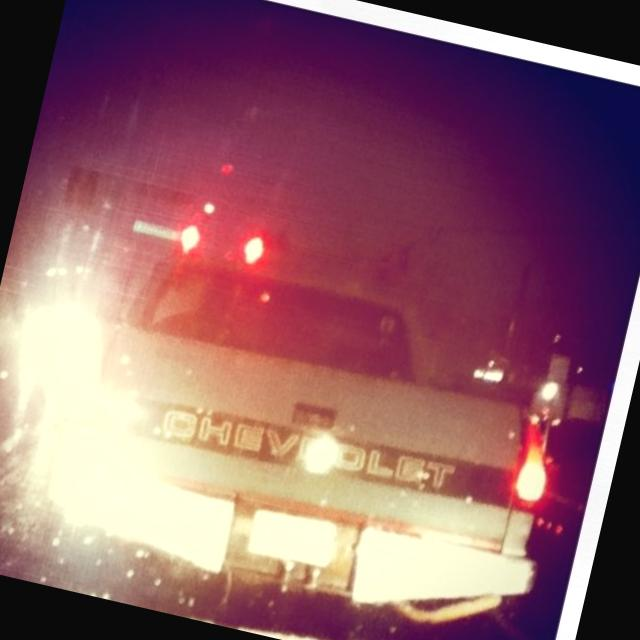Vehicle: (0, 217, 589, 640)
